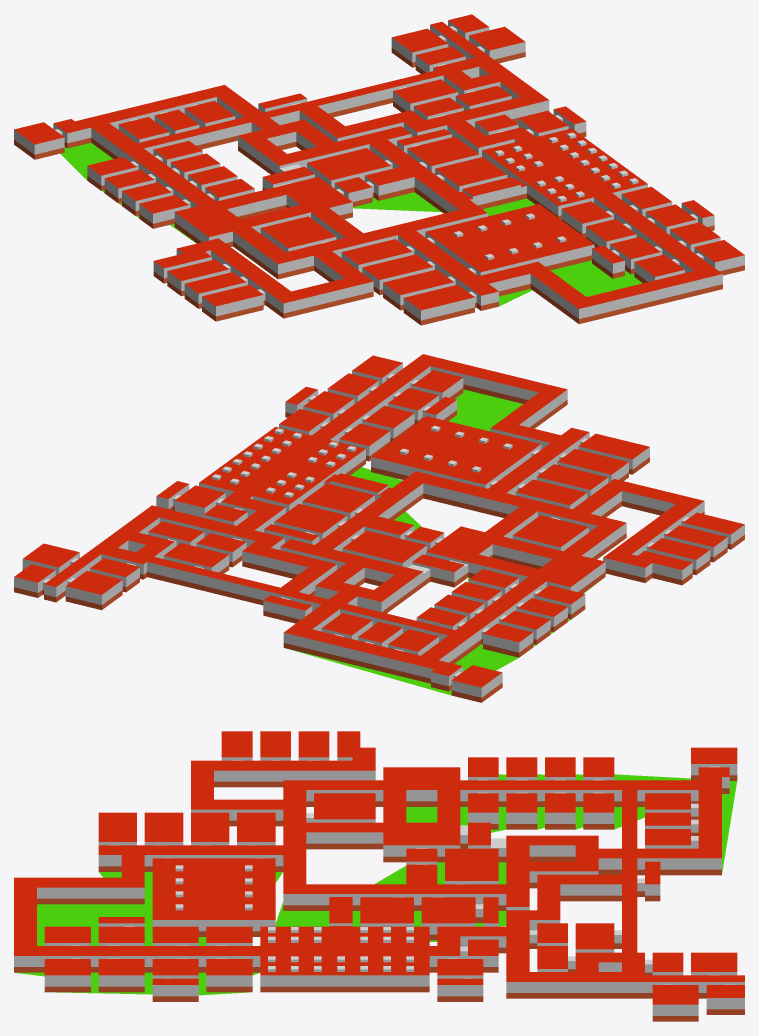
Rendered from College_MazeGame_Env.fbx.
3 views of the same model, one above another, from view 1: azimuth 30°, elevation 25°; view 2: azimuth 150°, elevation 25°; view 3: azimuth 270°, elevation 25° (orthographic). The views are drawn at different scales.
Visible parts, largest first — view 1: Maze; view 2: Maze; view 3: Maze.
Part boxes in pixels (x1,y1,x2,y2): Maze: (14, 14, 744, 325); Maze: (14, 354, 744, 702); Maze: (14, 731, 744, 1021).
Size of the model in its own units: 104 by 118 by 3.5.
